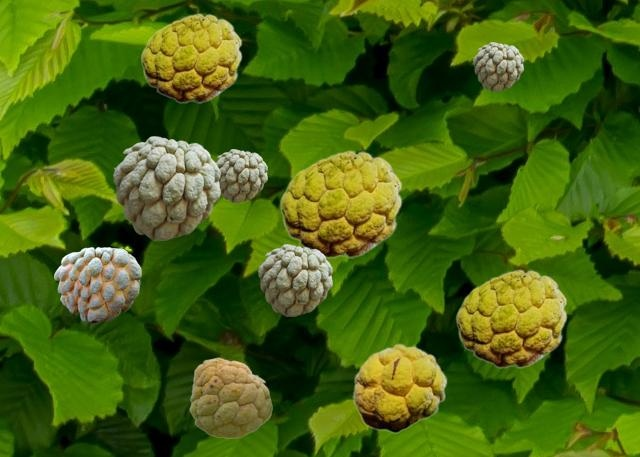atis: (279, 150, 401, 257), (113, 136, 219, 239), (455, 269, 566, 367), (140, 13, 241, 102), (352, 343, 446, 432), (189, 357, 271, 437), (54, 247, 140, 322), (258, 244, 331, 315), (216, 149, 266, 201), (473, 42, 522, 90)
